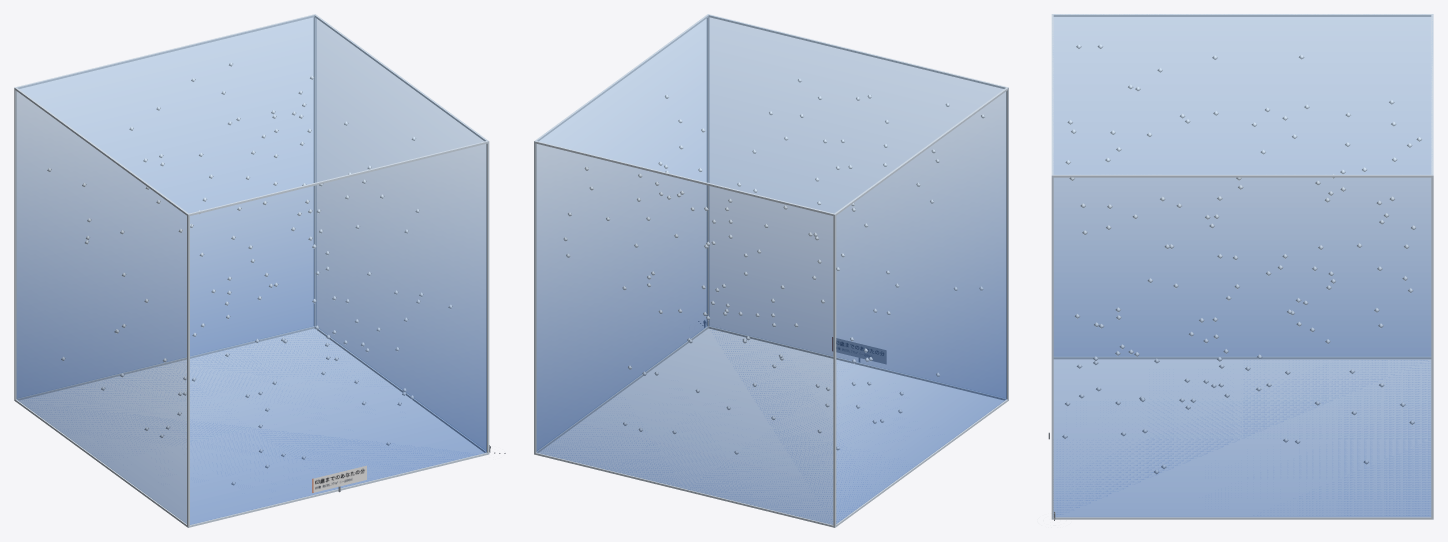
File: cube_life_63.glb
3 views of the same model, side by side, from view 1: azimuth 30°, elevation 25°; view 2: azimuth 150°, elevation 25°; view 3: azimuth 270°, elevation 25° (orthographic). The views are drawn at different scales.
Visible parts, largest first — view 1: co2, edge, dots, label; view 2: co2, edge, dots, label; view 3: co2, edge, dots.
Boxes of the visible parts, box(x1,y1,x2,y2) form: co2: box(16, 15, 486, 524); edge: box(14, 14, 489, 527); dots: box(47, 62, 452, 485); label: box(312, 465, 366, 492); co2: box(536, 15, 1006, 524); edge: box(534, 14, 1008, 527); dots: box(563, 78, 984, 454); label: box(832, 337, 886, 363); co2: box(1053, 14, 1432, 516); edge: box(1051, 14, 1433, 519); dots: box(1062, 44, 1421, 474).
Bounding box in the file's own units: 69.63 × 65.87 × 68.73.
Materials: 8 (3 with a texture image).
